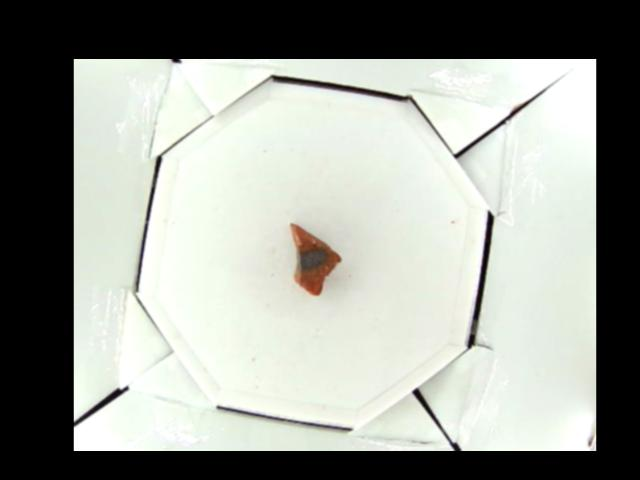Brisk: (287, 221, 341, 295)
